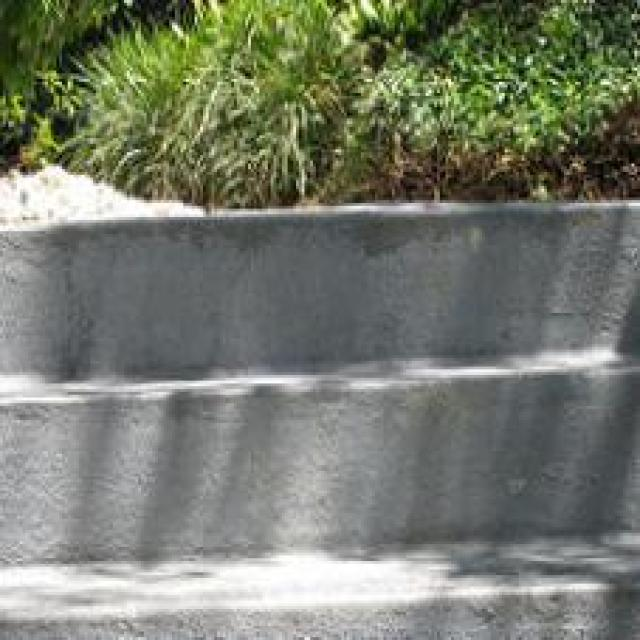upstair: (58, 201, 571, 497)
